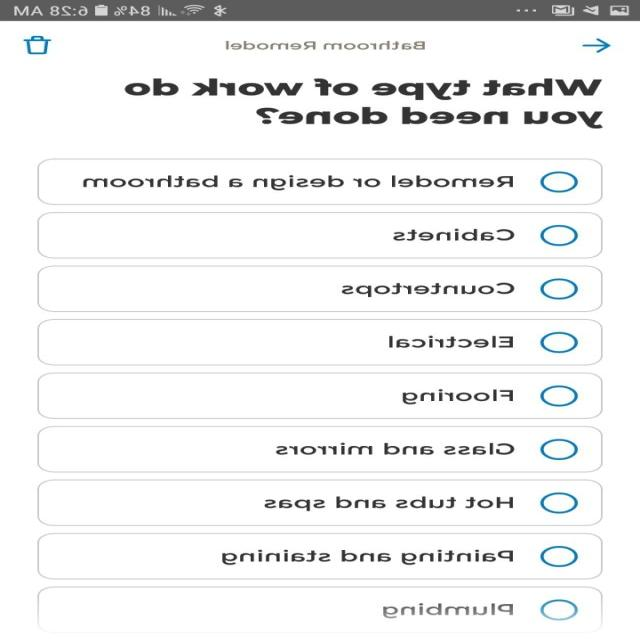Icon: (582, 38, 612, 53)
Image: (23, 36, 53, 55)
Text: (124, 78, 604, 129), (84, 175, 514, 191), (222, 549, 515, 565), (264, 496, 514, 511), (276, 442, 516, 455), (342, 282, 516, 297), (383, 602, 514, 618), (225, 40, 426, 50), (402, 388, 514, 405), (392, 227, 516, 241), (389, 335, 514, 348)
